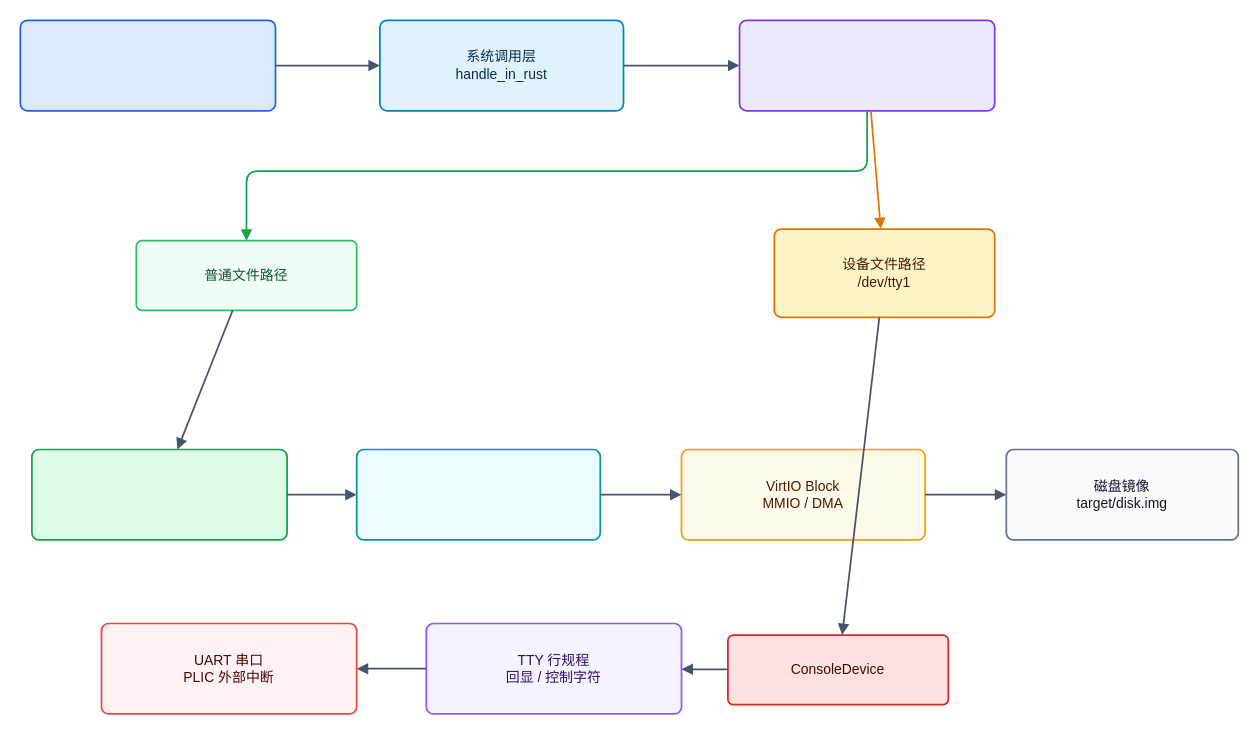
The diagram is 1260 pixels wide and 735 high, and some of its shapes have lost their labels. The centre of each missing label's shape, as x and y in pixels:
"BufferManager 块缓存接口" goes at (478,494).
"FileManager 文件描述符 / 路径" goes at (866,65).
"Inode / Directory V6 文件语义" goes at (159,494).
"用户程序 / Shell read / write / open" goes at (147,65).
